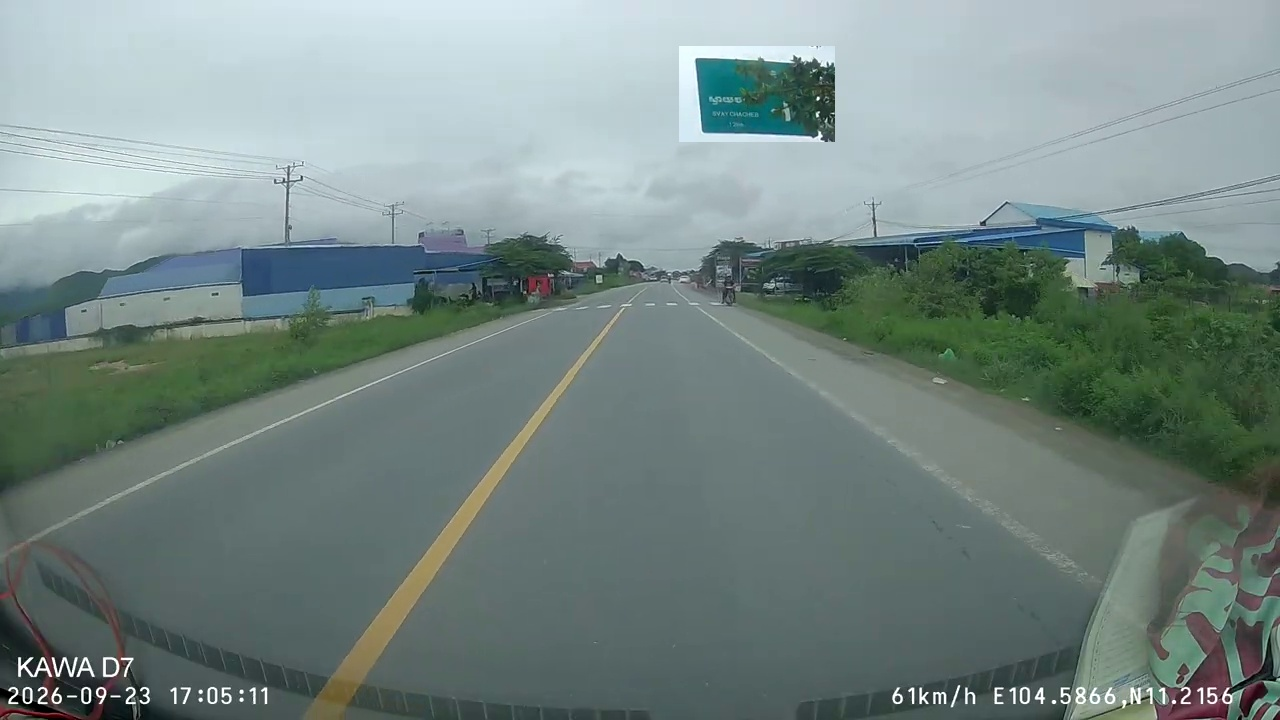direction_sign: (679, 46, 835, 142)
